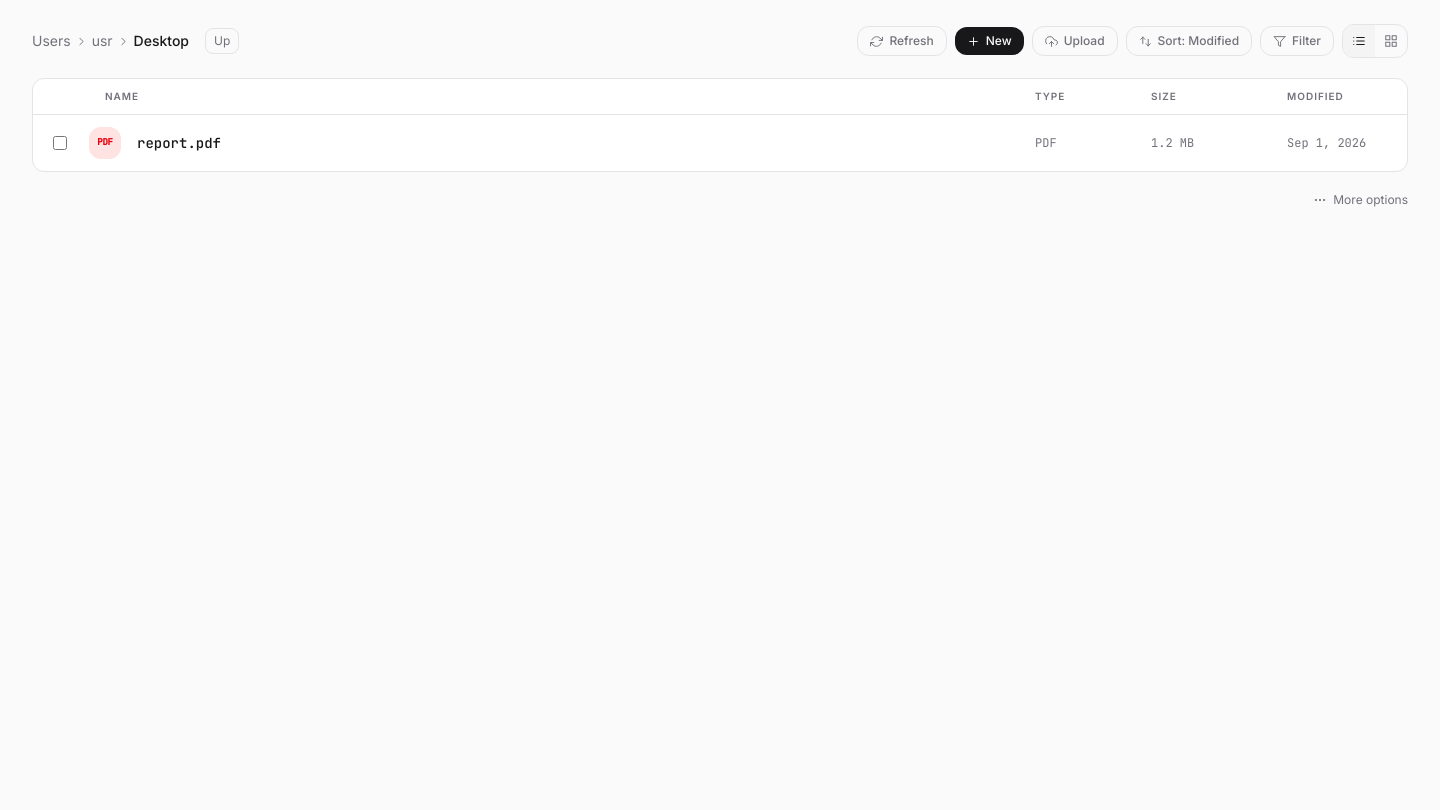
Files › keeps the rename dialog open and shows the error inline when the rename fails
Click the checkbox. click: click(60, 143)
box: [53,136,67,150]
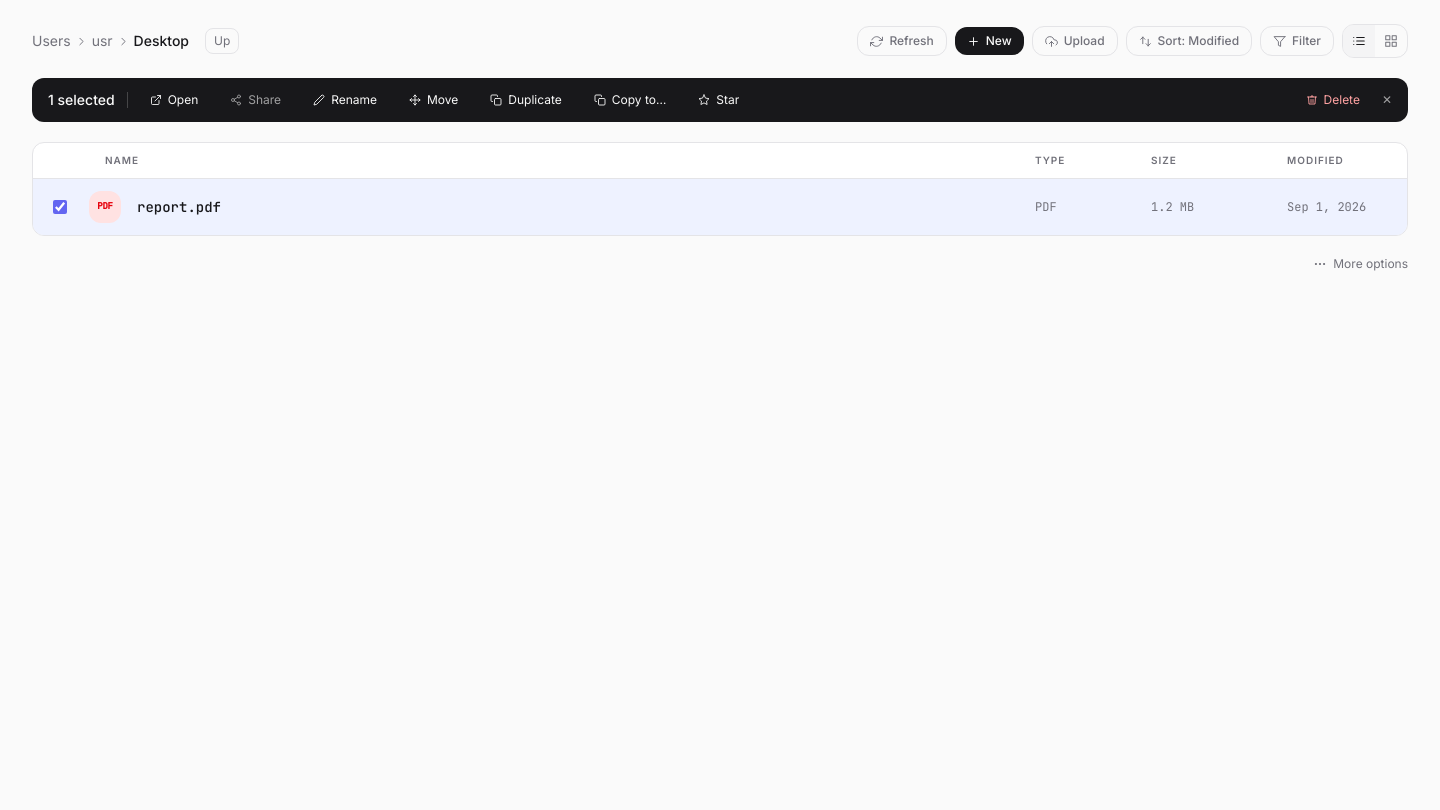
expect the text "1 selected" is shown: met, box [48,90,115,110]
Click the button "Rename". click: click(345, 100)
box: [303,88,387,112]
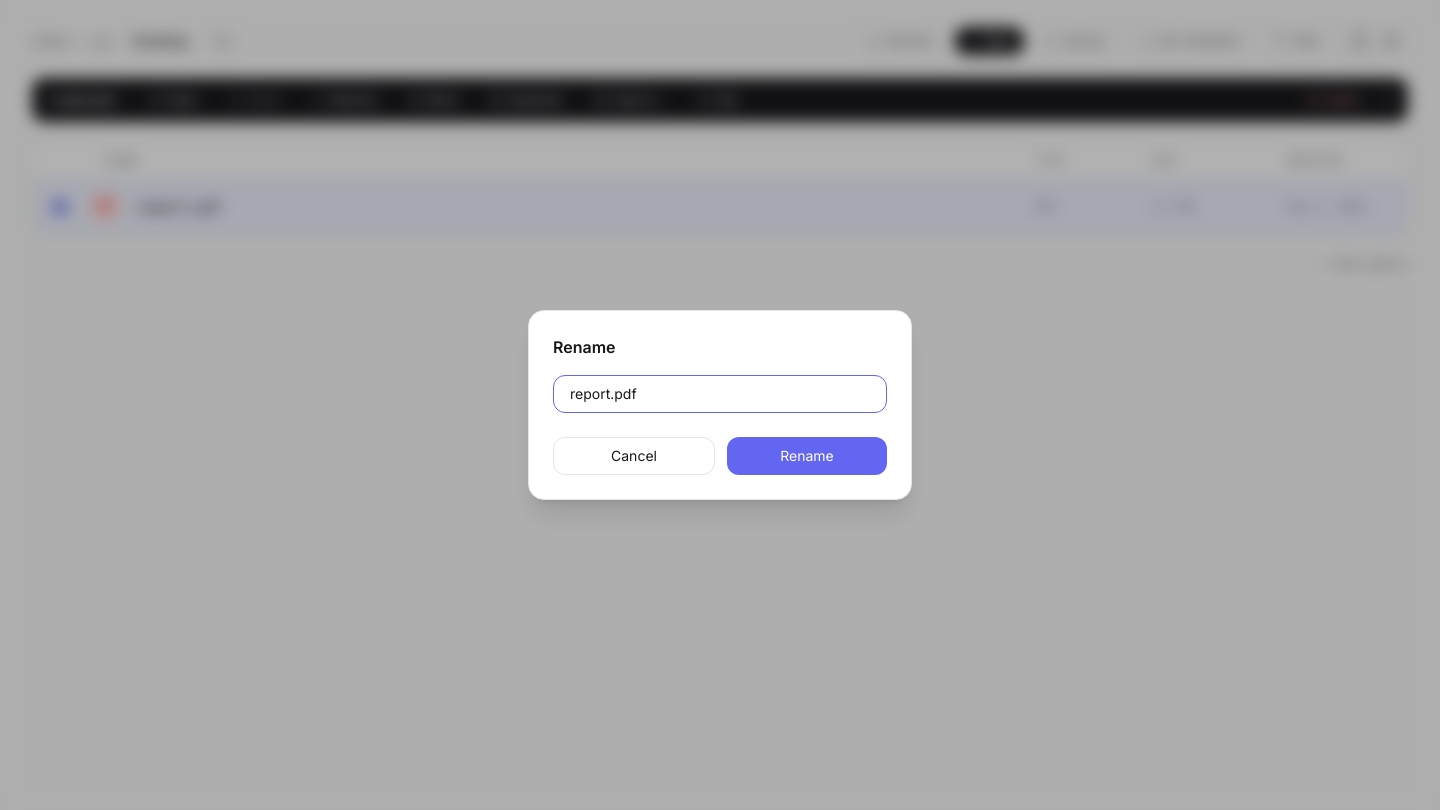
Replace the text in the field showing "report.pdf" with "notes.txt". click: (720, 394)
box: [553,375,887,413]
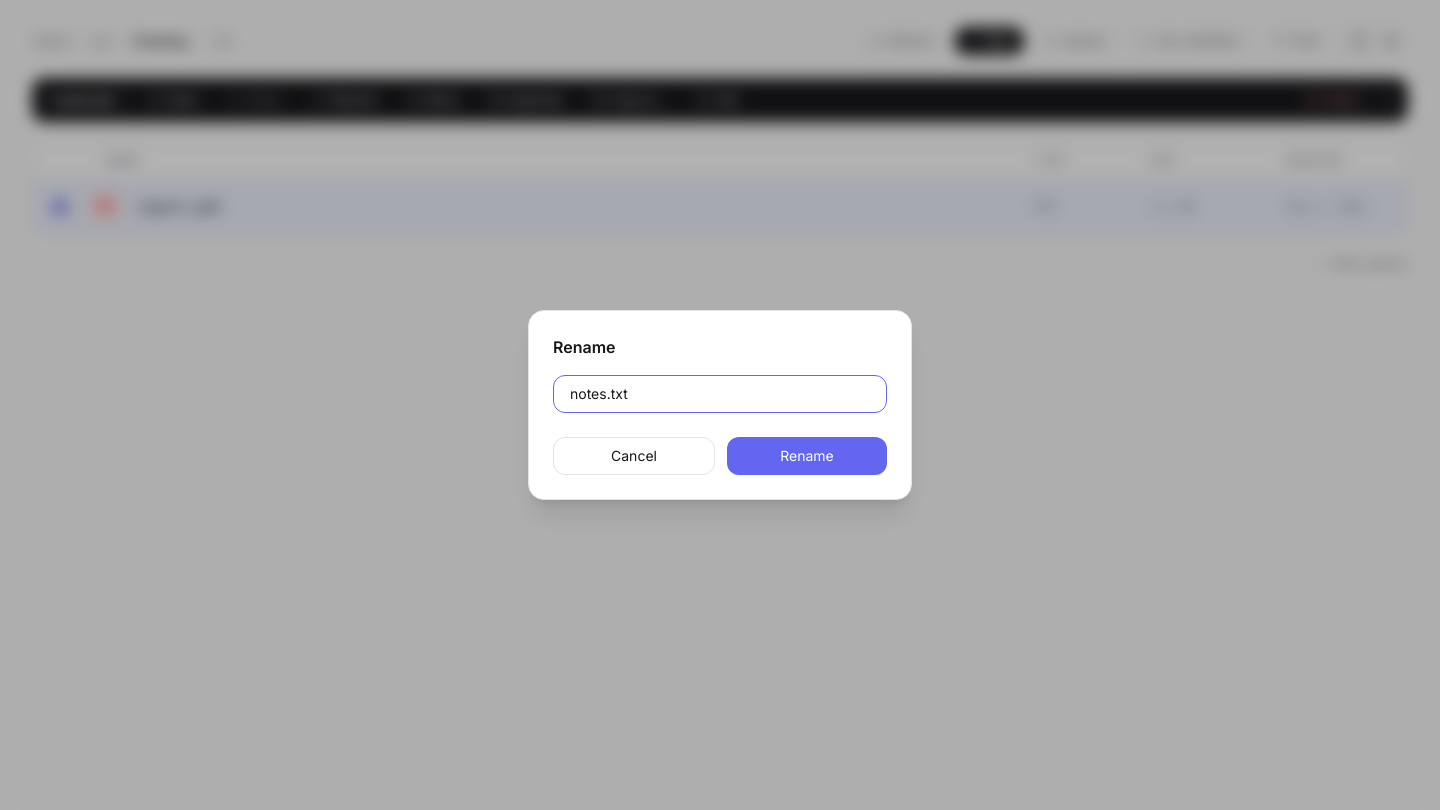
Click the button "Rename". click: click(807, 456)
box: [727,437,887,475]
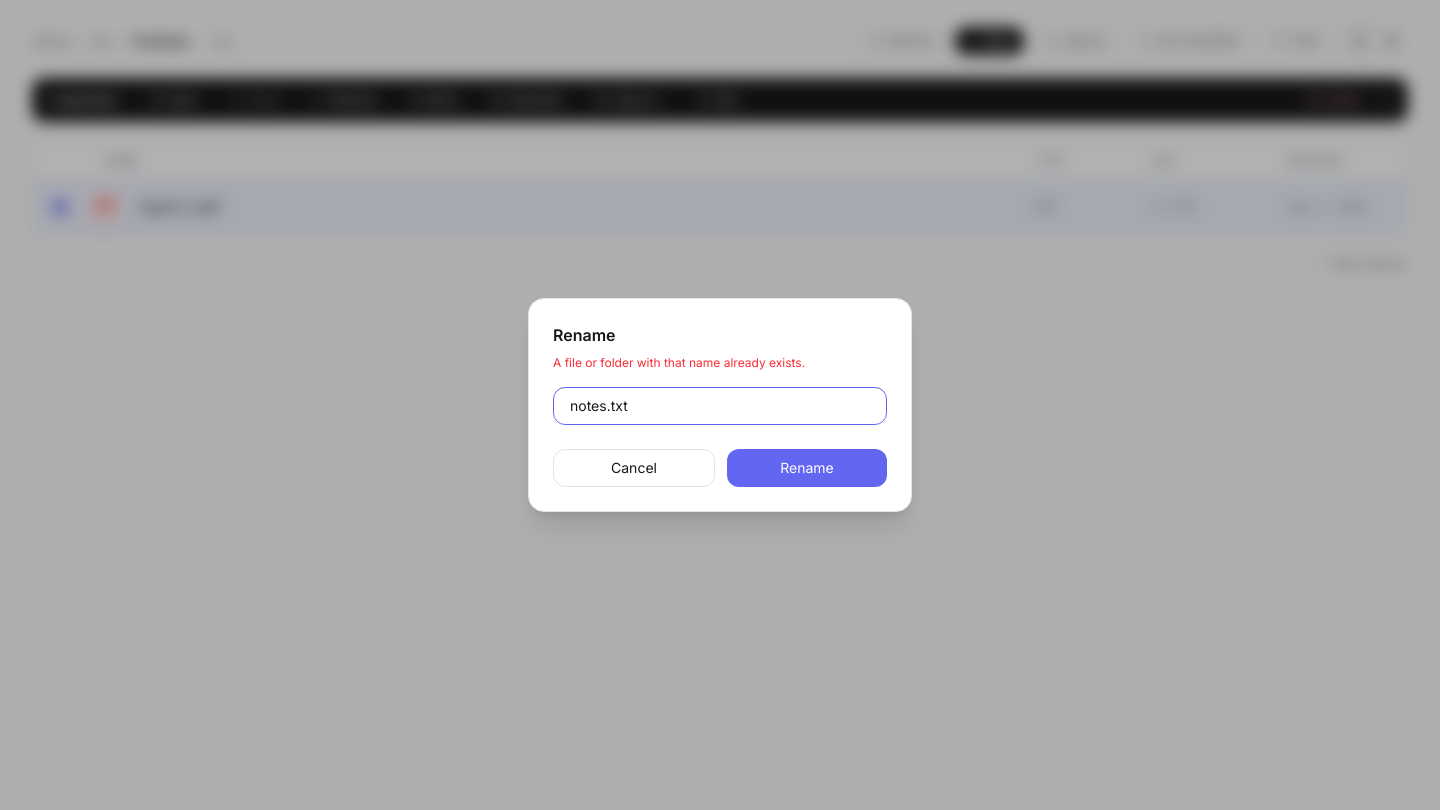
expect the text "A file or folder with that name already exists." is shown: met, box [553,355,805,370]
